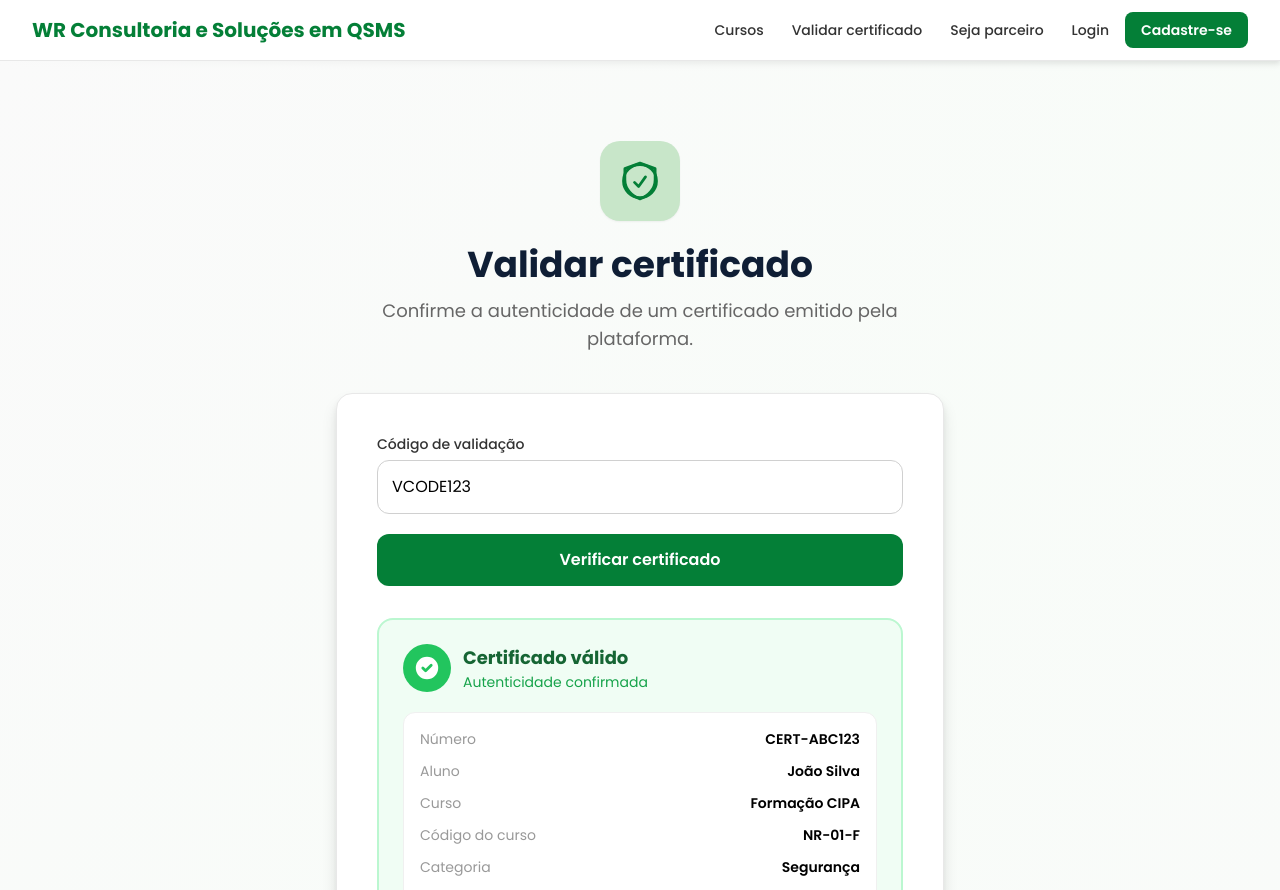
Test: ValidateCertificate — QR auto-validation & enriched result › clears previous result and re-runs on manual submit
Replace the text in the field with test id "validate-code-input" with "NEWCODE" at (640, 487), box [377,460,903,514]
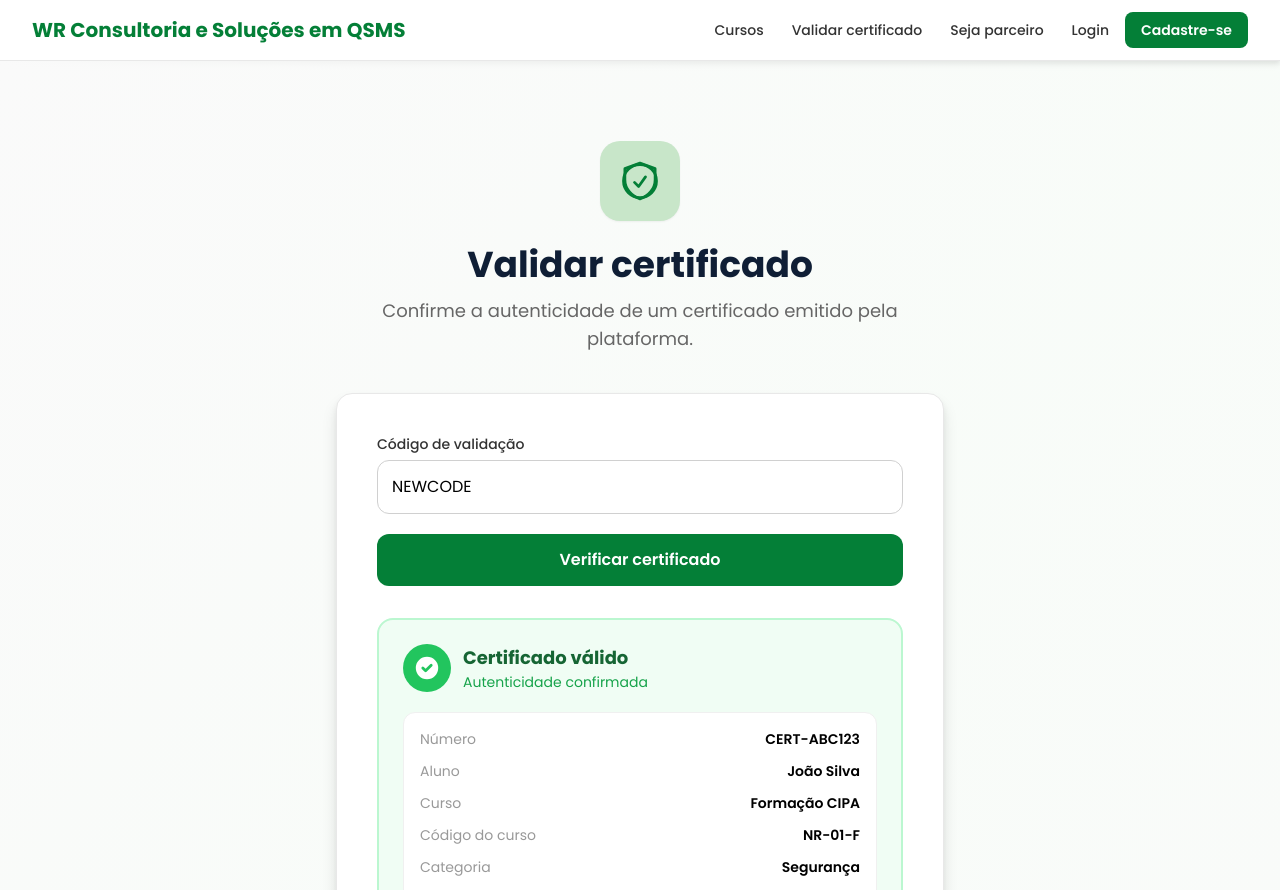
Submit the form, box [377,434,903,586]
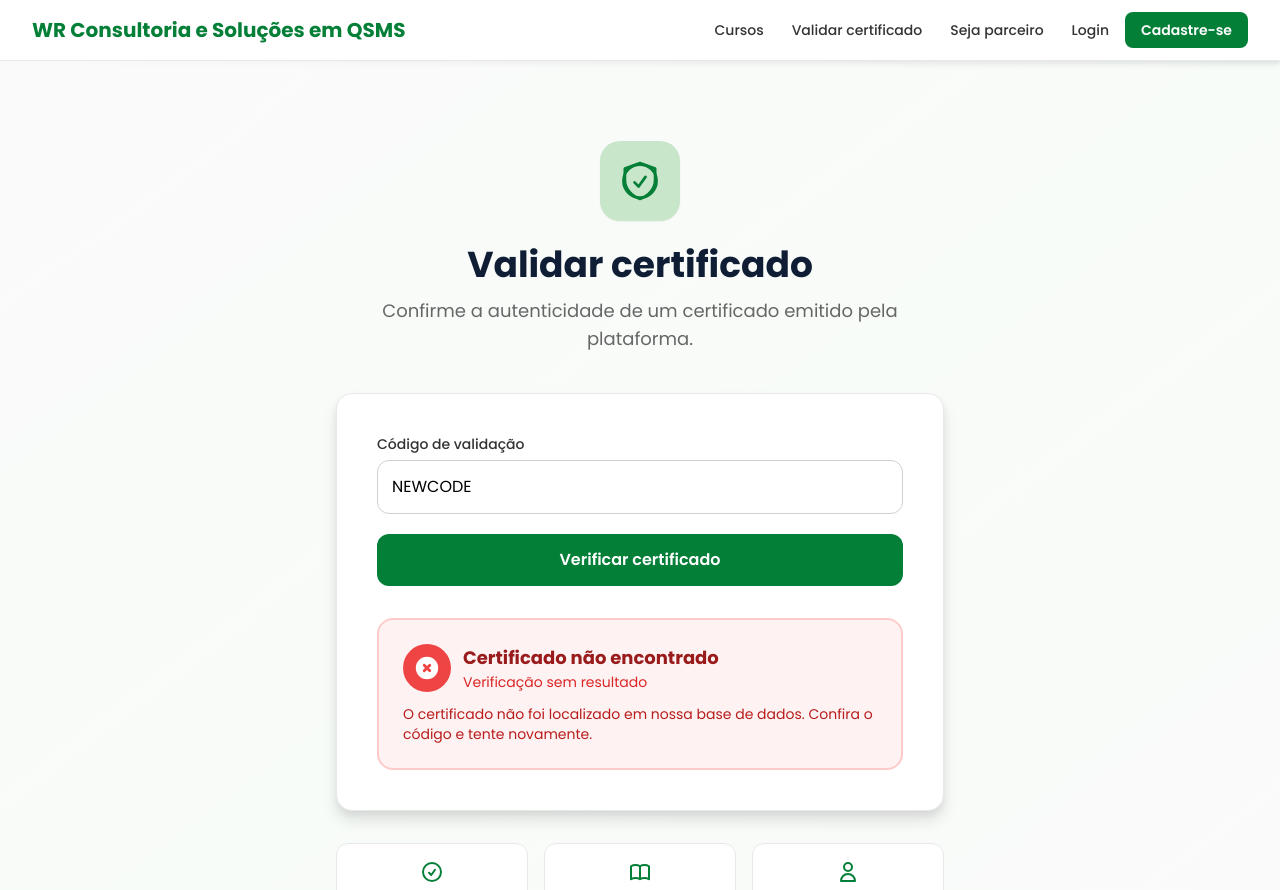
Result: the element with test id "validate-invalid" is shown at [377,618,903,770]
